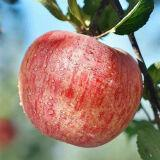apple: (17, 28, 143, 149)
